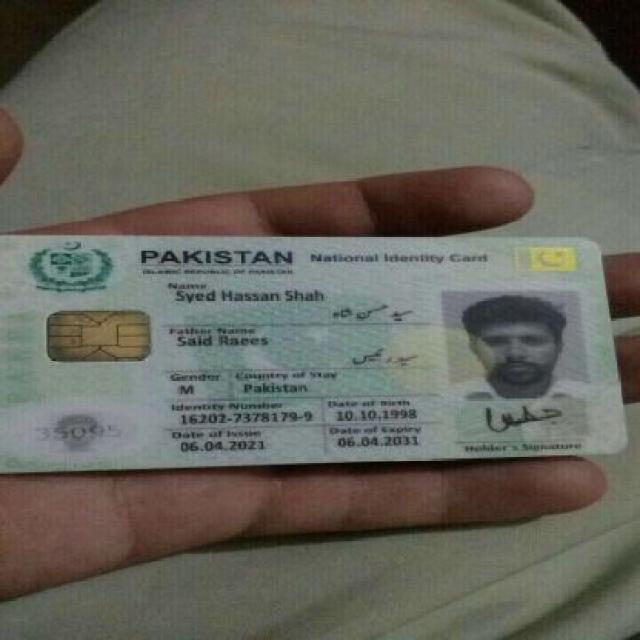Front: (2, 228, 620, 464)
